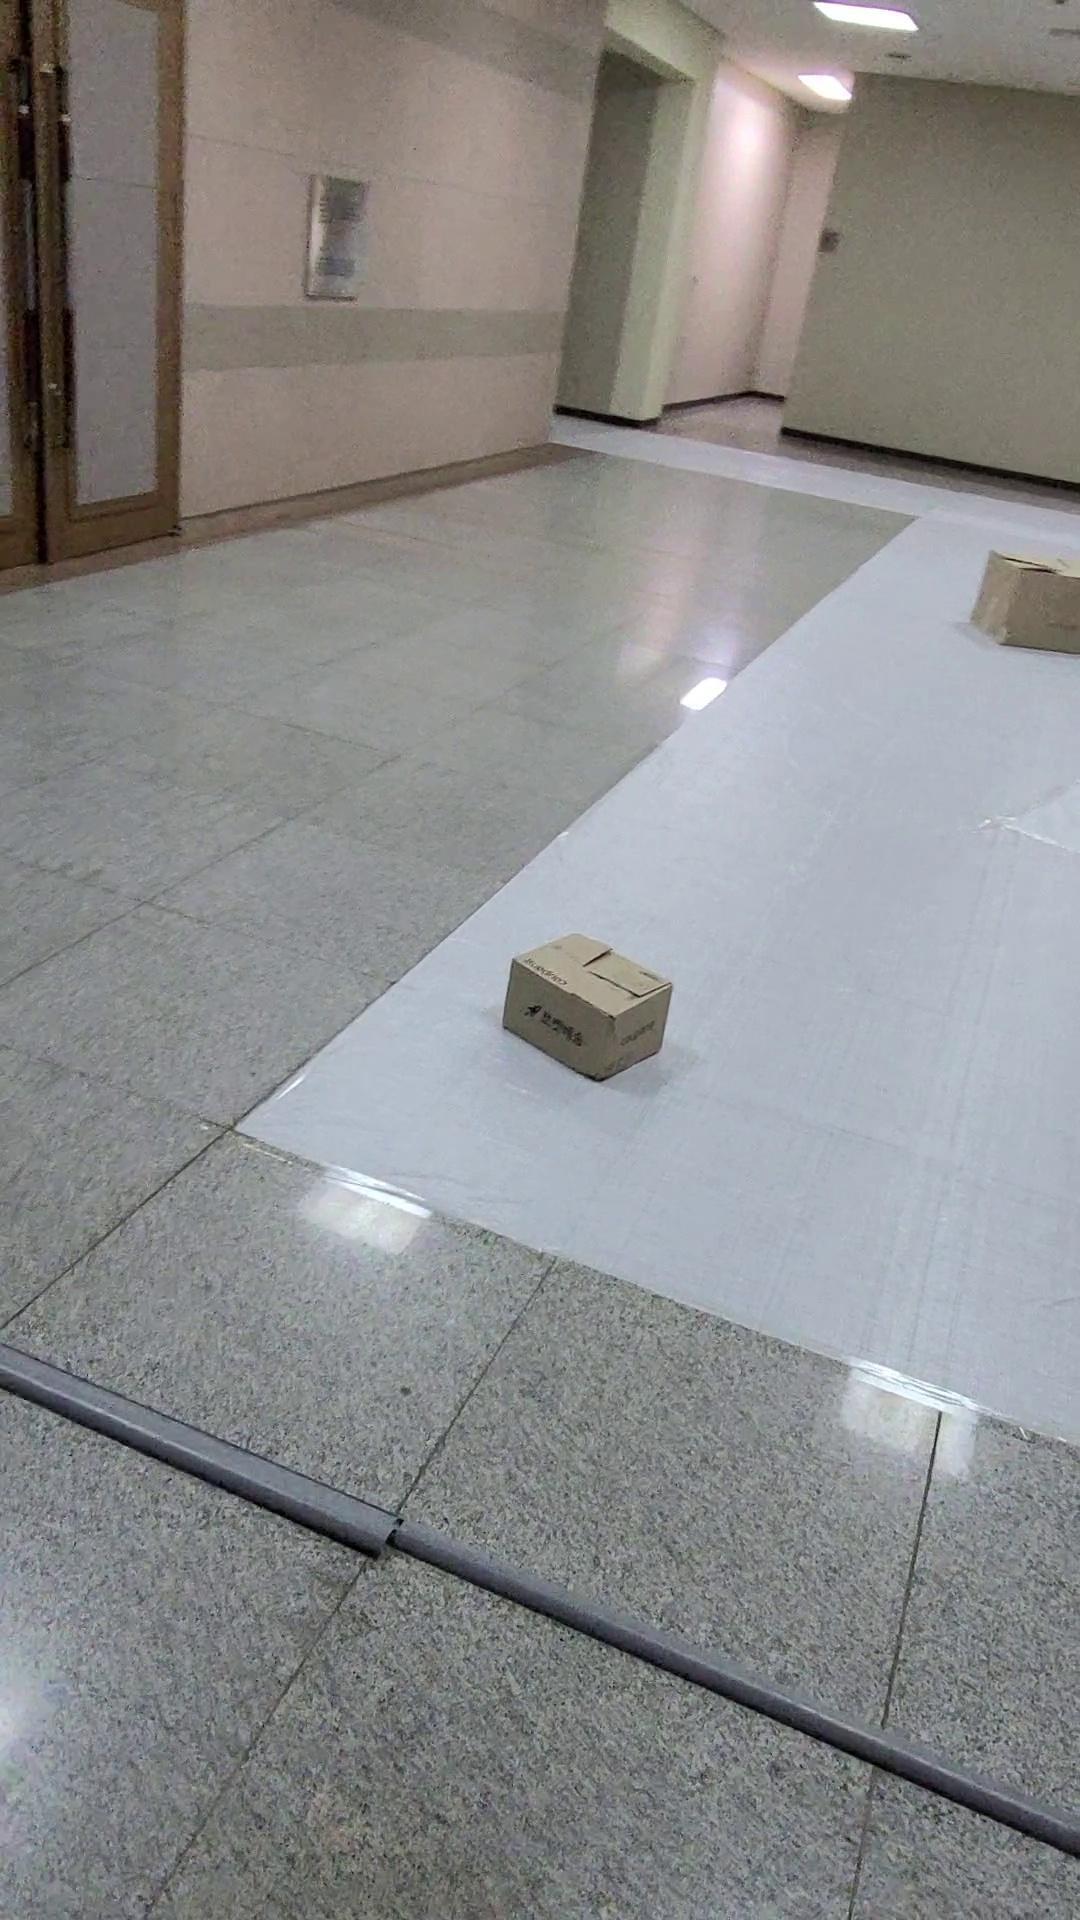Box: (440, 895, 702, 1120), (967, 505, 1080, 702)
